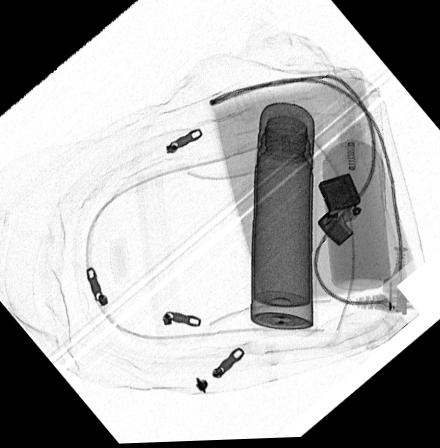Lighter: (315, 174, 360, 248)
